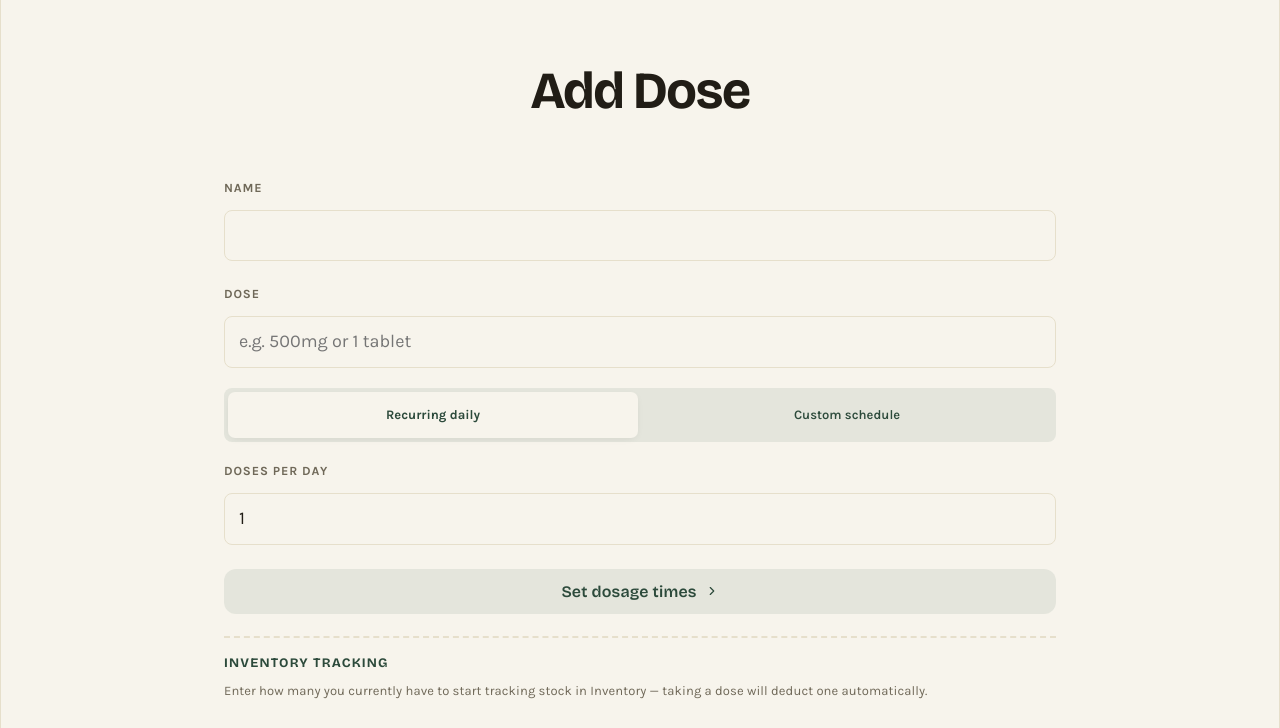
Test: DoseForm — custom schedule entries › reveals repeat fields once "Repeat" is checked
The image size is (1280, 728).
Click the button "Custom schedule": (847, 415) [642,392,1052,438]
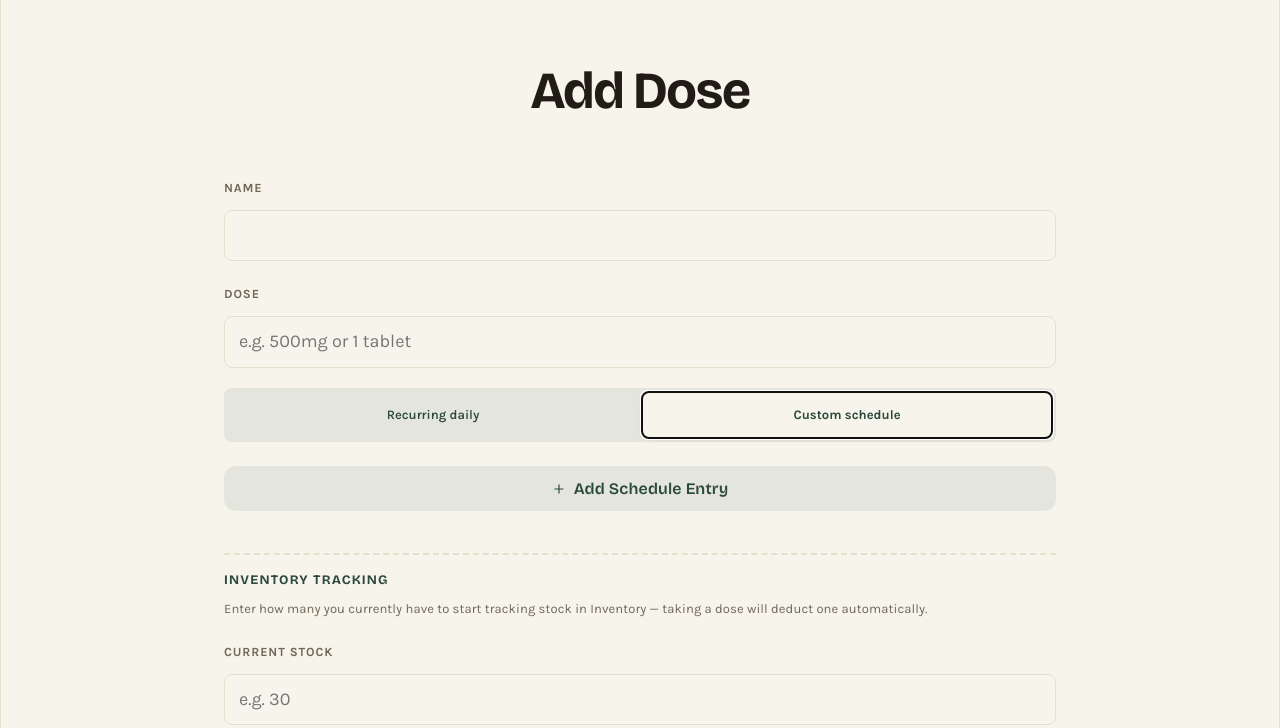
Click the button "Add Schedule Entry": (640, 489) [224,466,1056,511]
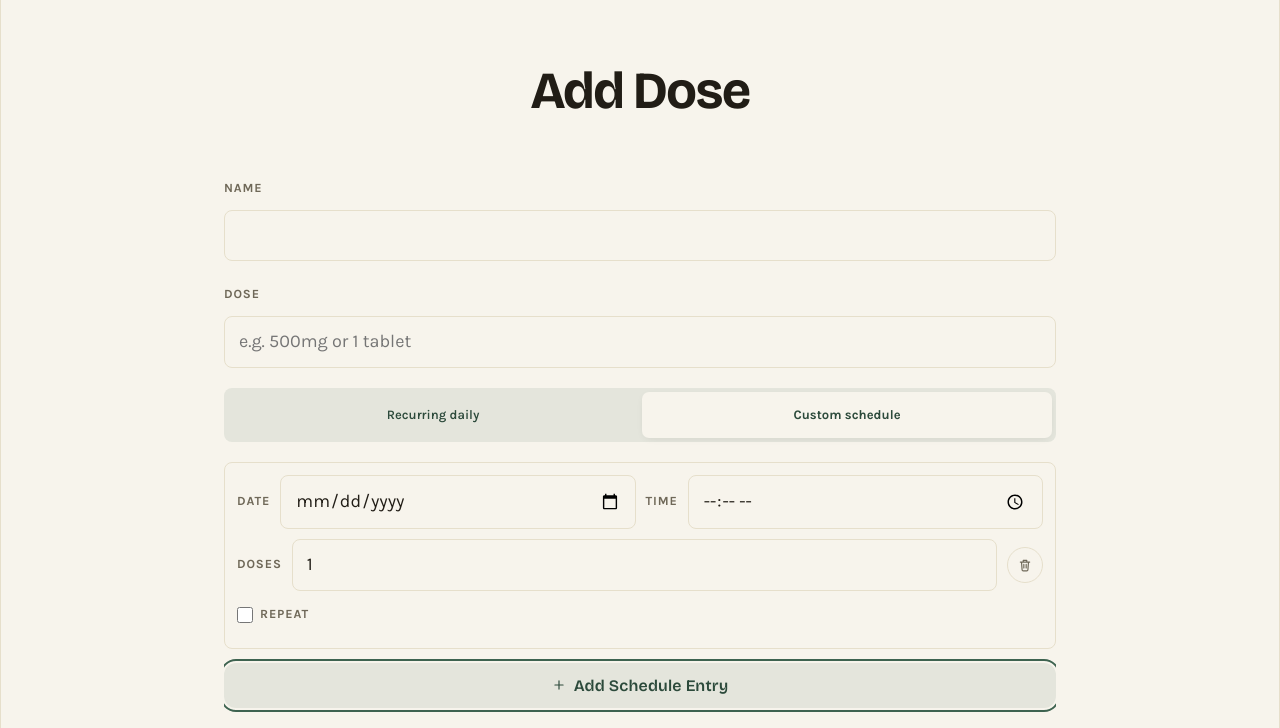
Check: the field labelled "Repeat every" is not shown
Click the checkbox labelled "Repeat": (245, 615) [237,607,253,623]
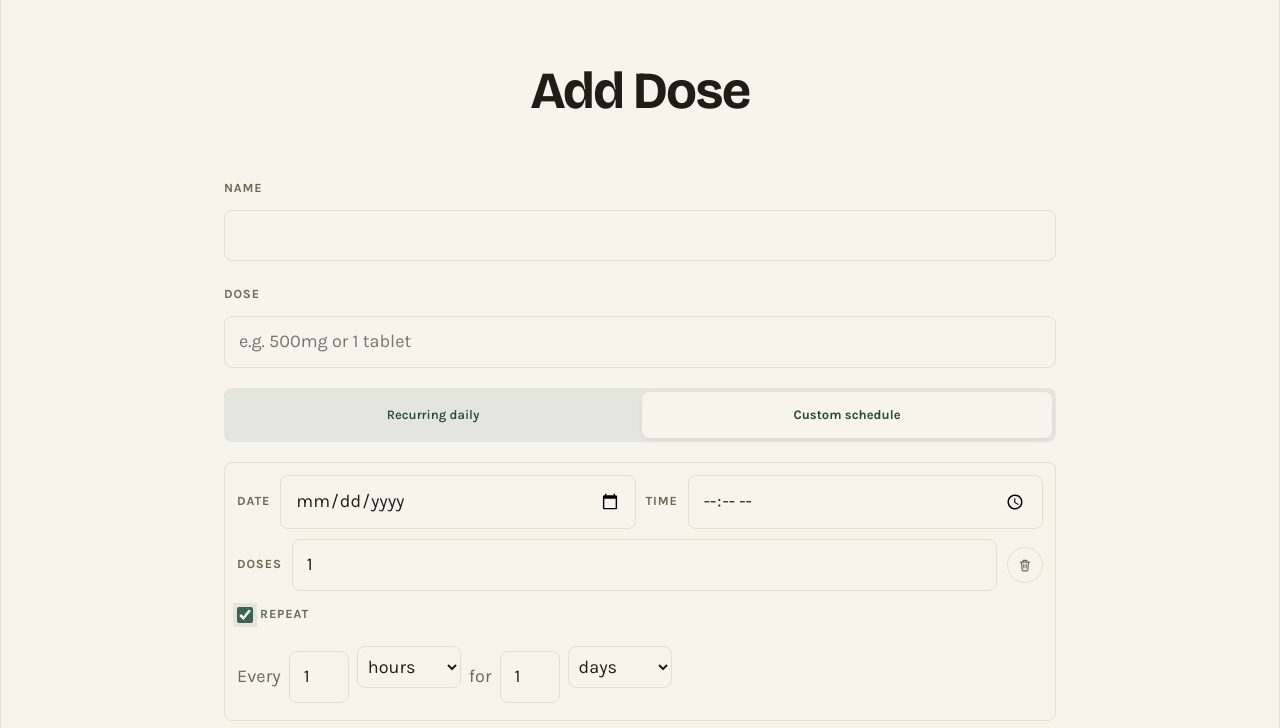
Check: the number field named "Repeat every" is shown, box [289,651,349,703]
Check: the number field named "Repeat for" is shown, box [500,651,560,703]
